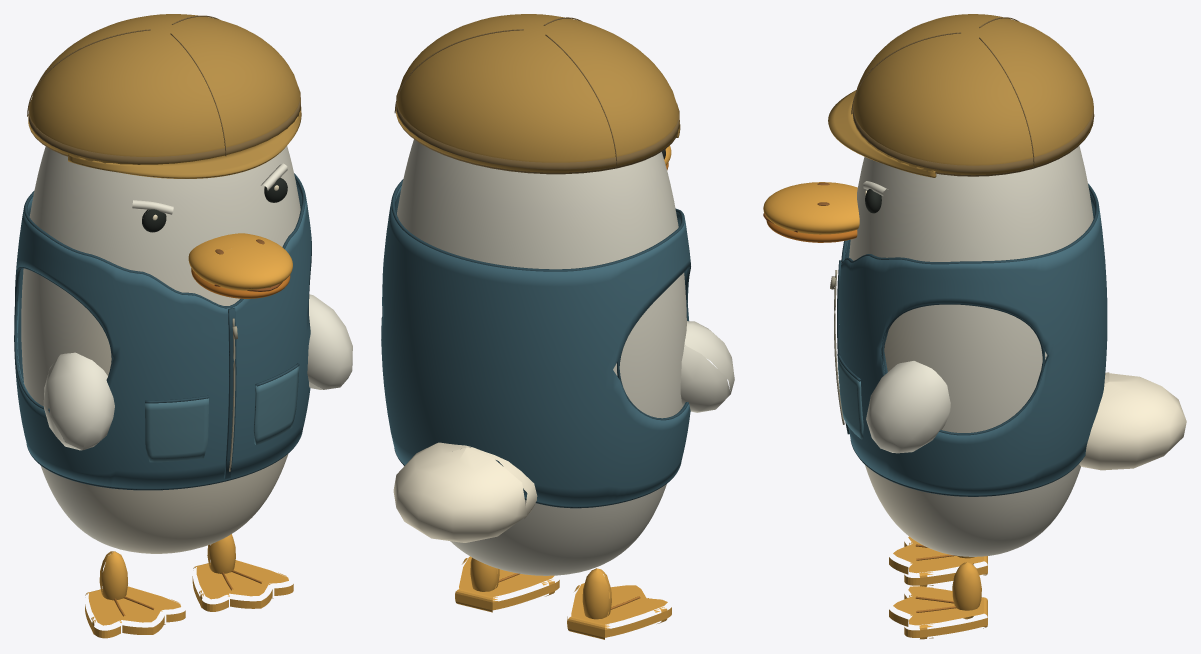
The model's file is goose-workwear.glb.
3 views of the same model, side by side, from view 1: azimuth 30°, elevation 25°; view 2: azimuth 150°, elevation 25°; view 3: azimuth 270°, elevation 25° (orthographic). The views are drawn at different scales.
Parts seen in each view (by area): view 1: goose_vest_workwear_mesh, goose_torso_mesh, goose_helmet_workwear_mesh, goose_beak_mesh, goose_leftArm_mesh, goose_leftFoot_mesh, goose_rightFoot_mesh, goose_rightArm_mesh; view 2: goose_vest_workwear_mesh, goose_torso_mesh, goose_helmet_workwear_mesh, goose_tail_mesh, goose_leftFoot_mesh, goose_leftArm_mesh, goose_rightFoot_mesh; view 3: goose_torso_mesh, goose_vest_workwear_mesh, goose_helmet_workwear_mesh, goose_tail_mesh, goose_rightArm_mesh, goose_beak_mesh, goose_rightFoot_mesh, goose_leftFoot_mesh.
Boxes of the visible parts, left/top/right/bottom form: goose_vest_workwear_mesh: left=14, top=173, right=311, bottom=490; goose_torso_mesh: left=21, top=146, right=300, bottom=553; goose_helmet_workwear_mesh: left=27, top=14, right=301, bottom=178; goose_beak_mesh: left=188, top=233, right=292, bottom=298; goose_leftArm_mesh: left=43, top=352, right=114, bottom=450; goose_leftFoot_mesh: left=85, top=551, right=185, bottom=638; goose_rightFoot_mesh: left=192, top=534, right=293, bottom=611; goose_rightArm_mesh: left=307, top=294, right=352, bottom=389; goose_vest_workwear_mesh: left=381, top=179, right=690, bottom=508; goose_torso_mesh: left=397, top=139, right=686, bottom=575; goose_helmet_workwear_mesh: left=394, top=14, right=680, bottom=174; goose_tail_mesh: left=393, top=442, right=537, bottom=542; goose_leftFoot_mesh: left=567, top=568, right=671, bottom=639; goose_leftArm_mesh: left=680, top=321, right=734, bottom=412; goose_rightFoot_mesh: left=455, top=556, right=559, bottom=612; goose_torso_mesh: left=849, top=145, right=1093, bottom=556; goose_vest_workwear_mesh: left=830, top=183, right=1107, bottom=496; goose_helmet_workwear_mesh: left=828, top=14, right=1094, bottom=177; goose_tail_mesh: left=1079, top=372, right=1186, bottom=470; goose_rightArm_mesh: left=866, top=361, right=950, bottom=453; goose_beak_mesh: left=763, top=182, right=859, bottom=242; goose_rightFoot_mesh: left=889, top=562, right=987, bottom=639; goose_leftFoot_mesh: left=889, top=536, right=987, bottom=586.
Bounding box in the file's own units: 1.1 × 2 × 1.37.
